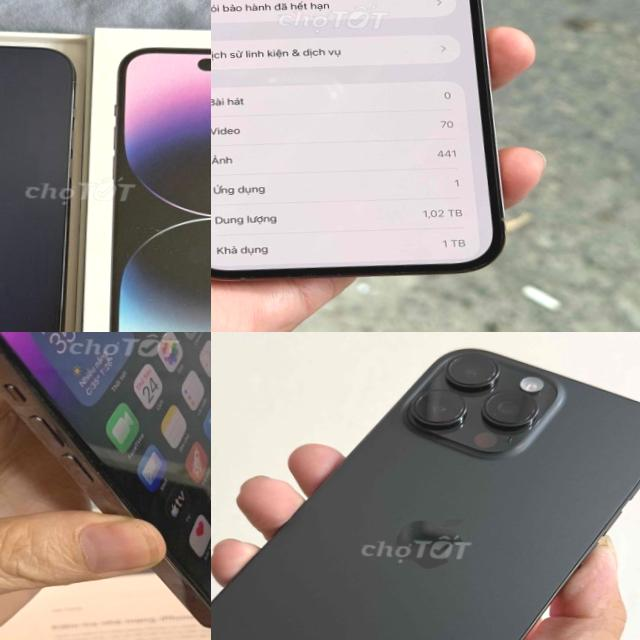gen_14: (211, 0, 528, 286), (0, 332, 211, 633), (0, 32, 86, 332)
gen_16: (211, 348, 640, 640)
